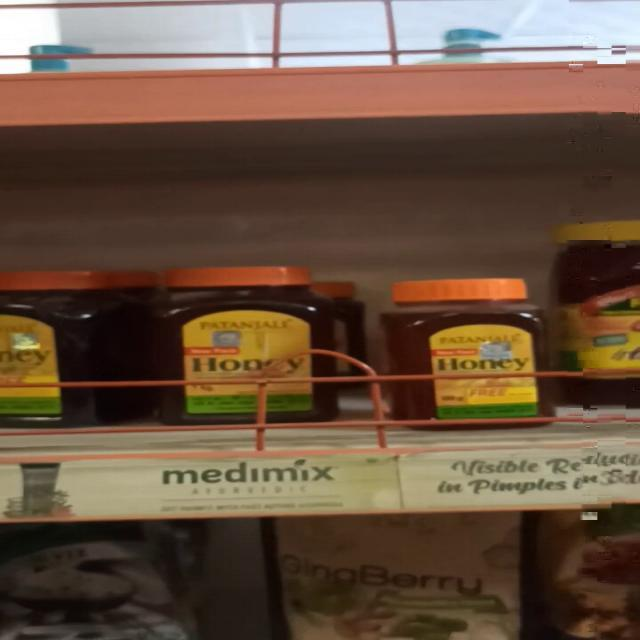Patanjali Honey: (160, 263, 347, 437), (391, 274, 557, 434)
